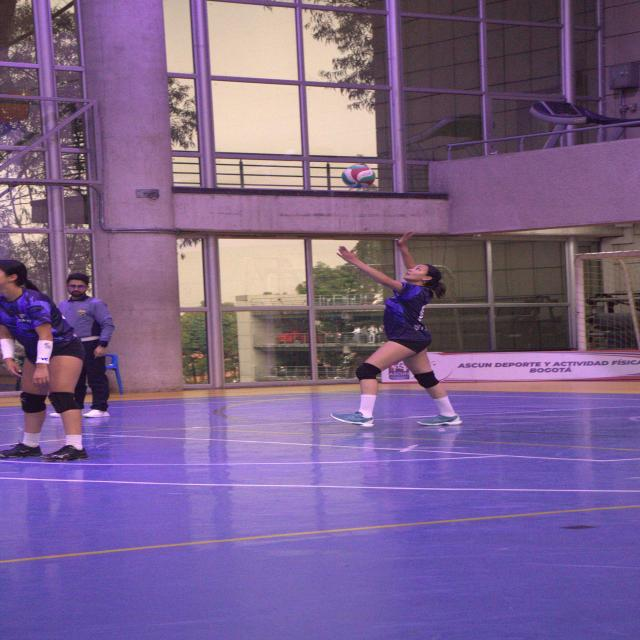volleyball: (342, 165, 375, 189)
